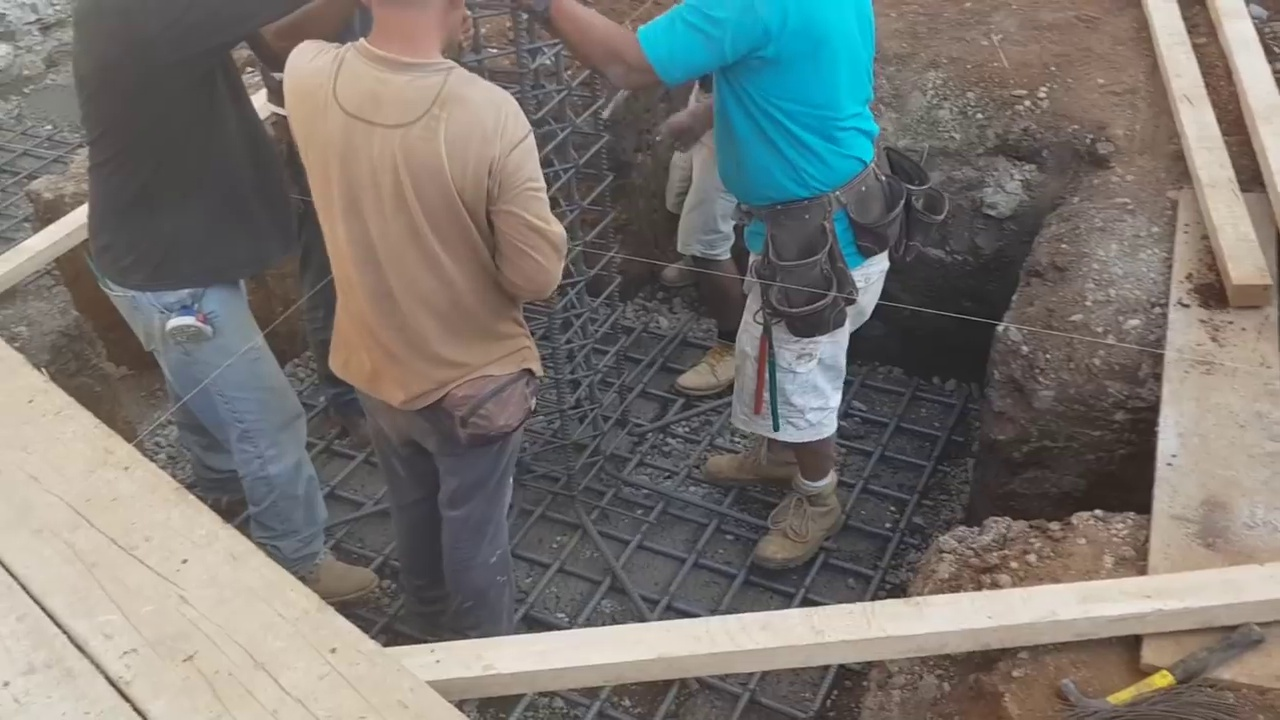person: (511, 0, 897, 564), (63, 0, 382, 624), (280, 0, 576, 663), (663, 64, 758, 400)
